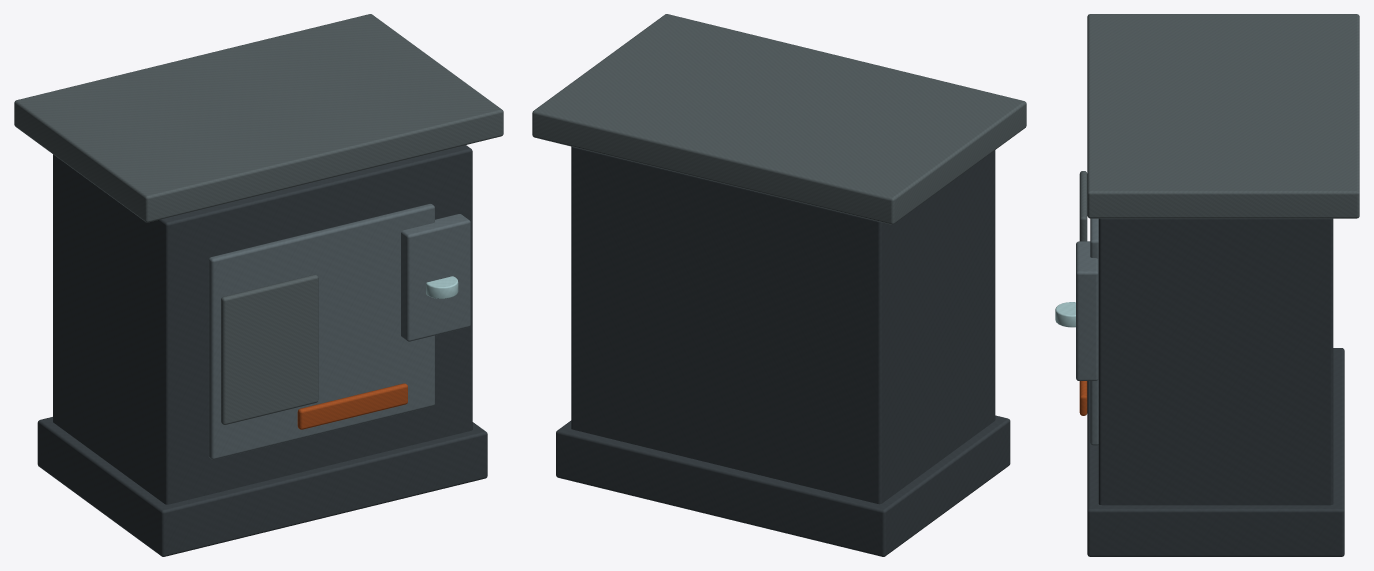
Rendered from PortableGenerator.fbx.
The picture shows the model from 3 angles, left to right: view 1: azimuth 30°, elevation 25°; view 2: azimuth 150°, elevation 25°; view 3: azimuth 270°, elevation 25°; orthographic projection. The views are drawn at different scales.
Visible parts, largest first — view 1: PortableGenerator_Mesh; view 2: PortableGenerator_Mesh; view 3: PortableGenerator_Mesh.
Boxes of the visible parts, <box> form: PortableGenerator_Mesh: <box>14,14,503,556</box>; PortableGenerator_Mesh: <box>532,14,1026,556</box>; PortableGenerator_Mesh: <box>1055,14,1359,556</box>.
Size of the model in its own units: 112 by 109 by 80.5.
